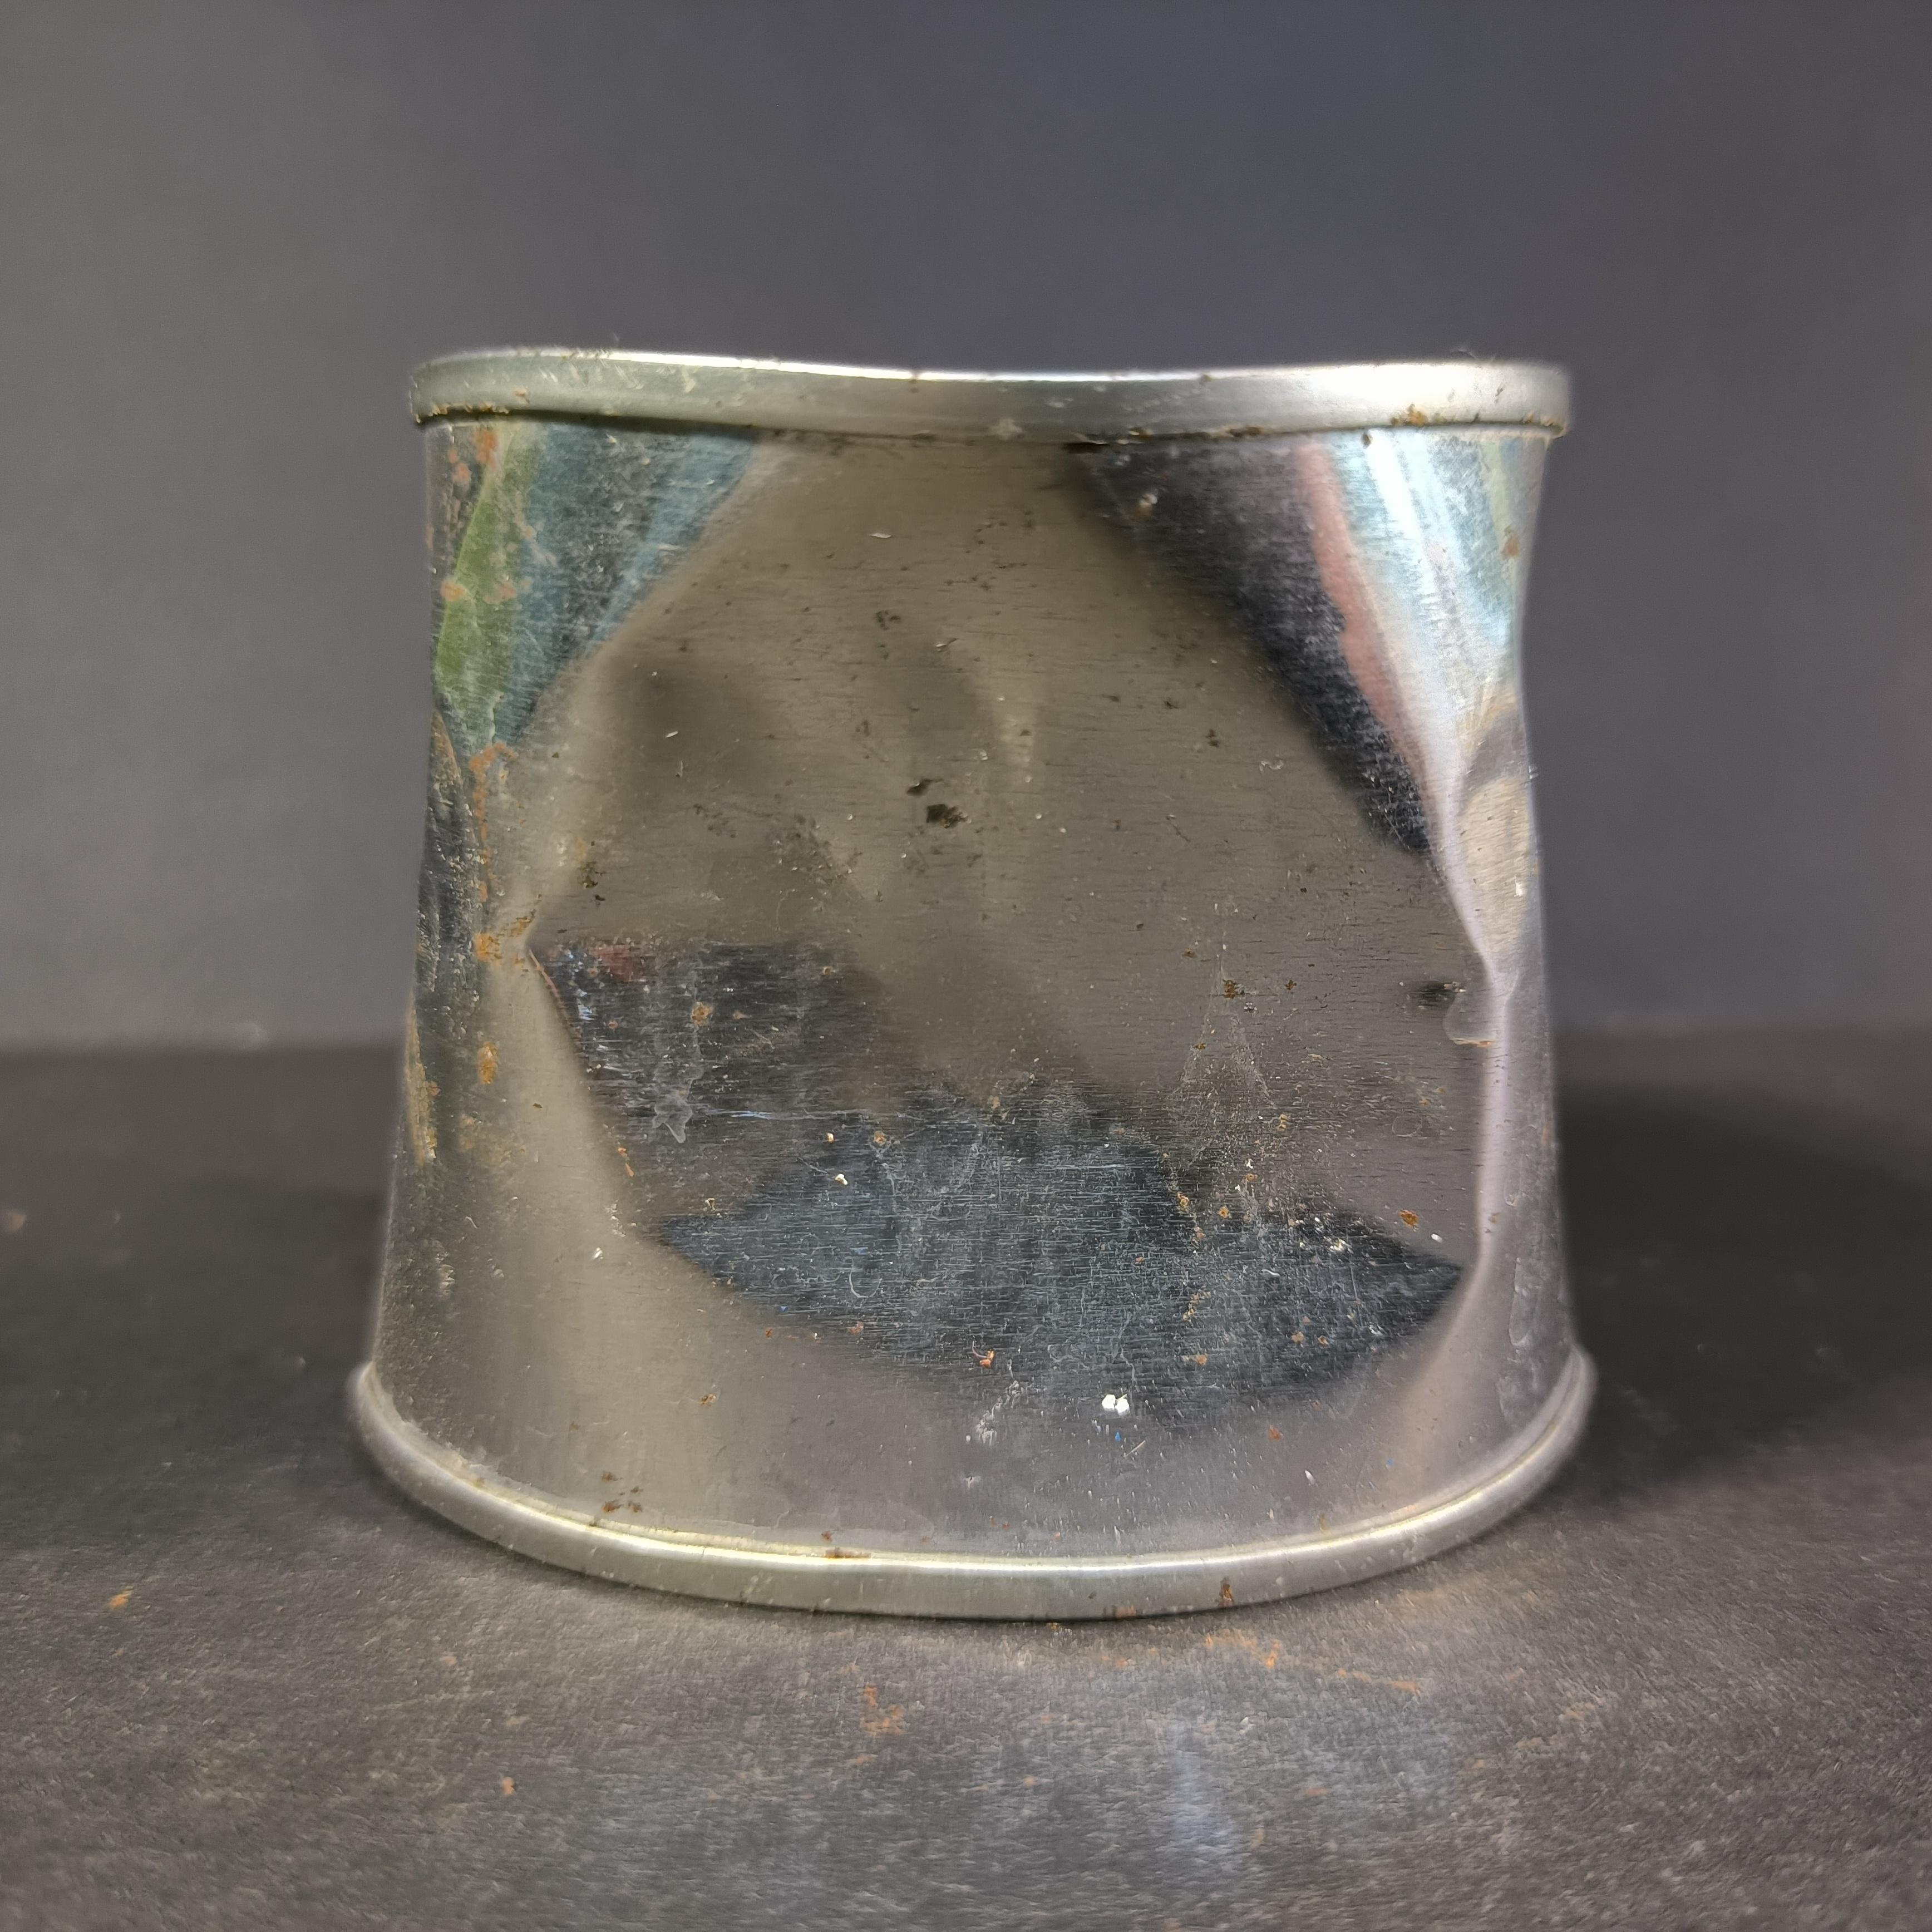Major Defect: (352, 345, 1598, 1614)
